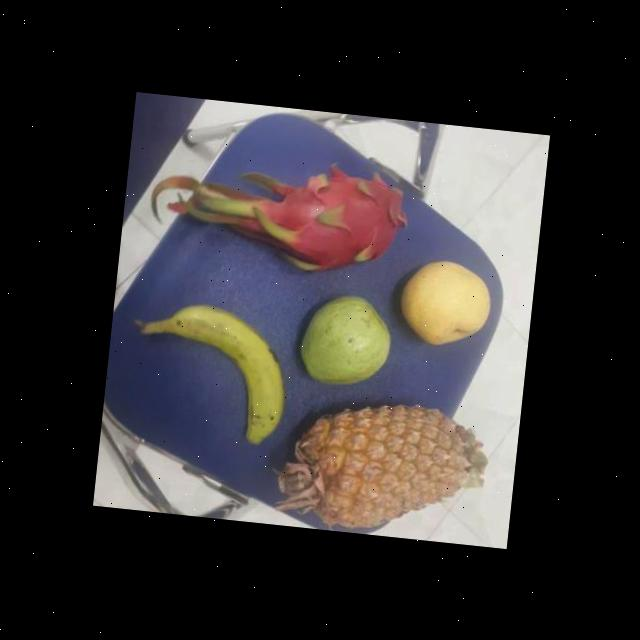banana: (143, 294, 293, 448)
guava: (293, 290, 397, 396)
pear: (394, 252, 491, 350)
pineapple: (272, 388, 486, 540)
pitaya: (253, 160, 407, 278)
